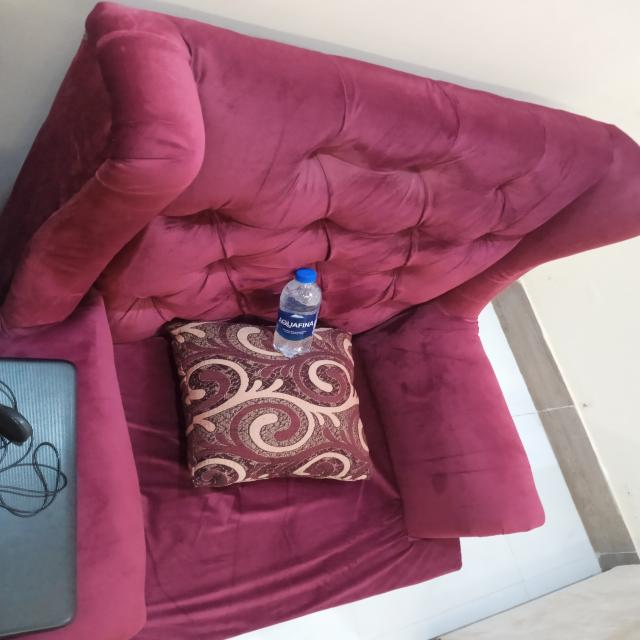Plastic: (269, 264, 324, 359)
